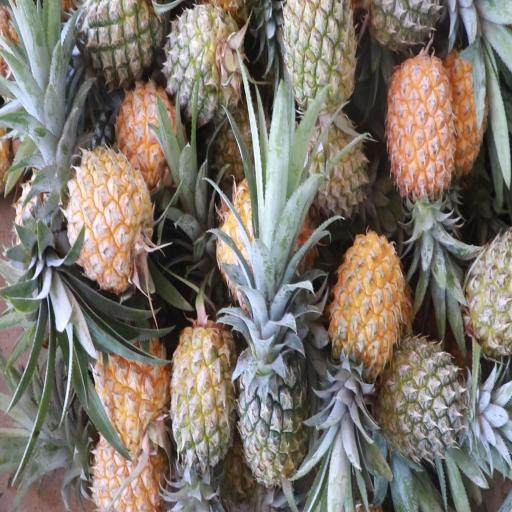------------------------------: (170, 322, 234, 494)
Pineapple - v8 v1: (331, 230, 402, 458), (387, 60, 454, 290), (59, 159, 158, 292), (94, 322, 175, 454), (115, 83, 191, 196)
